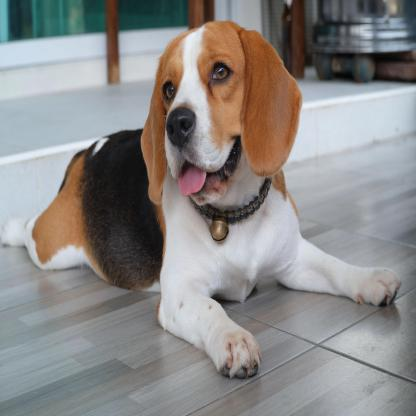Bigl: (3, 20, 401, 382)
